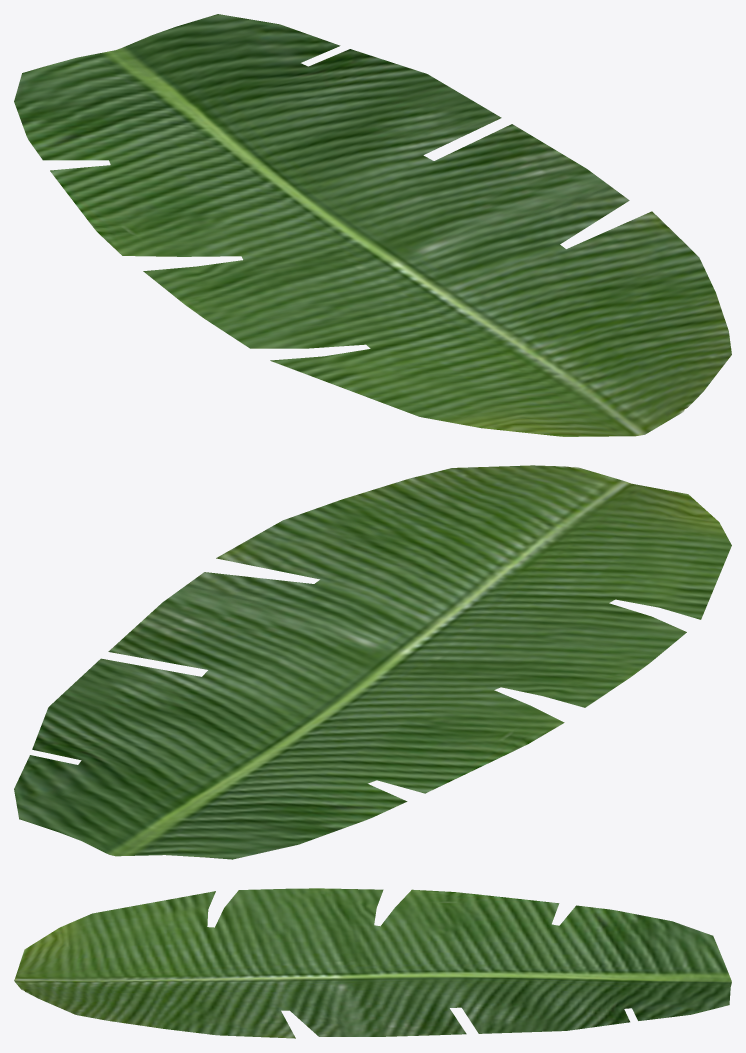
The model's file is bananaleaf.obj.
3 views of the same model, one above another, from view 1: azimuth 30°, elevation 25°; view 2: azimuth 150°, elevation 25°; view 3: azimuth 270°, elevation 25° (orthographic). The views are drawn at different scales.
Parts seen in each view (by area): view 1: ganesh:pPlane1 ganesh:banana_leaf banana_leaf1; view 2: ganesh:pPlane1 ganesh:banana_leaf banana_leaf1; view 3: ganesh:pPlane1 ganesh:banana_leaf banana_leaf1.
Boxes of the visible parts, x1,y1,x2,y2 form: ganesh:pPlane1 ganesh:banana_leaf banana_leaf1: (14,14,731,436); ganesh:pPlane1 ganesh:banana_leaf banana_leaf1: (14,465,731,859); ganesh:pPlane1 ganesh:banana_leaf banana_leaf1: (14,888,731,1038).
Size of the model in its own units: 17.07 by 0.7927 by 34.78.
1 material, 1 textured.
